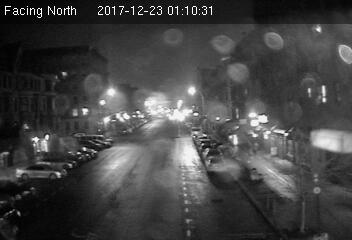car: (205, 155, 226, 173)
